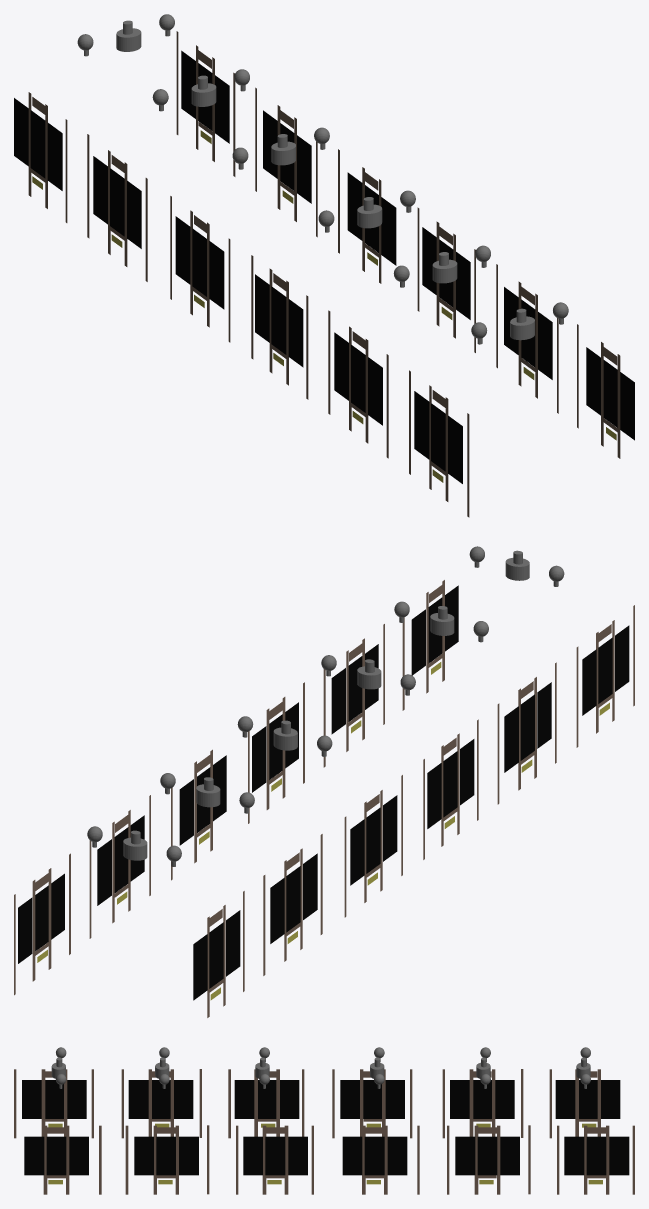
Rendered from lnwr-50ft-non-cor-arc-first-windows.dae.
3 renders of one model, top to bottom at view 1: azimuth 30°, elevation 25°; view 2: azimuth 150°, elevation 25°; view 3: azimuth 270°, elevation 25°, orthographic. The views are drawn at different scales.
Parts seen in each view (by area): view 1: Plane_699, Plane_700, Plane_809, Plane_826, Plane_683, Plane_810, Plane_828, Plane_799, Plane_682, Plane_694, Plane_752, Plane_754 (+18 smaller); view 2: Plane_681, Plane_694, Plane_700, Plane_809, Plane_826, Plane_827, Plane_682, Plane_683, Plane_696, Plane_699, Plane_767, Plane_770 (+17 smaller); view 3: Plane_754, Plane_771, Plane_781, Plane_783, Plane_788, Plane_800, Plane_753, Plane_782, Plane_787, Plane_799, Plane_801, Plane_696 (+47 smaller).
Boxes of the visible parts, x1=… form: Plane_699: x1=288, y1=299, x2=303, y2=367; Plane_700: x1=271, y1=286, x2=286, y2=354; Plane_809: x1=30, y1=110, x2=45, y2=178; Plane_826: x1=175, y1=216, x2=190, y2=284; Plane_683: x1=414, y1=391, x2=429, y2=459; Plane_810: x1=47, y1=122, x2=62, y2=190; Plane_828: x1=209, y1=241, x2=224, y2=309; Plane_799: x1=381, y1=197, x2=396, y2=265; Plane_682: x1=431, y1=403, x2=445, y2=471; Plane_694: x1=334, y1=332, x2=348, y2=400; Plane_752: x1=586, y1=347, x2=600, y2=415; Plane_754: x1=620, y1=372, x2=634, y2=440; Plane_681: x1=615, y1=625, x2=629, y2=691; Plane_694: x1=504, y1=706, x2=518, y2=772; Plane_700: x1=443, y1=751, x2=457, y2=817; Plane_809: x1=209, y1=922, x2=223, y2=988; Plane_826: x1=350, y1=819, x2=364, y2=885; Plane_827: x1=366, y1=807, x2=380, y2=873; Plane_682: x1=598, y1=637, x2=612, y2=703; Plane_683: x1=582, y1=649, x2=596, y2=715; Plane_696: x1=537, y1=682, x2=551, y2=748; Plane_699: x1=460, y1=739, x2=474, y2=805; Plane_767: x1=331, y1=668, x2=345, y2=734; Plane_770: x1=252, y1=726, x2=266, y2=792; Plane_754: x1=24, y1=1136, x2=44, y2=1175; Plane_771: x1=265, y1=1136, x2=285, y2=1175; Plane_781: x1=564, y1=1136, x2=584, y2=1175; Plane_783: x1=609, y1=1136, x2=629, y2=1175; Plane_788: x1=455, y1=1136, x2=475, y2=1175; Plane_800: x1=364, y1=1136, x2=384, y2=1175; Plane_753: x1=46, y1=1136, x2=66, y2=1175; Plane_782: x1=586, y1=1136, x2=606, y2=1175; Plane_787: x1=477, y1=1136, x2=497, y2=1175; Plane_799: x1=342, y1=1136, x2=362, y2=1175; Plane_801: x1=387, y1=1136, x2=407, y2=1175; Plane_696: x1=128, y1=1080, x2=148, y2=1118.
Bounding box in the file's own units: 1.82 × 8.44 × 1.61.
